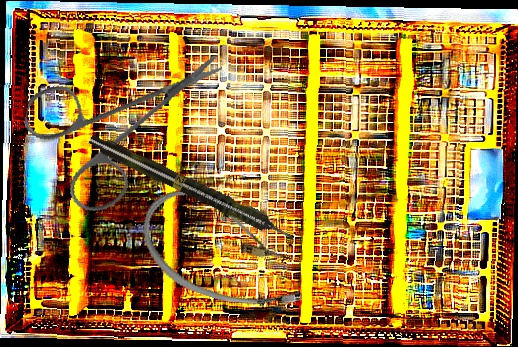Cannula: (127, 178, 324, 326)
Handpiece: (86, 130, 298, 248)
Iris Scissors: (7, 13, 225, 234)
